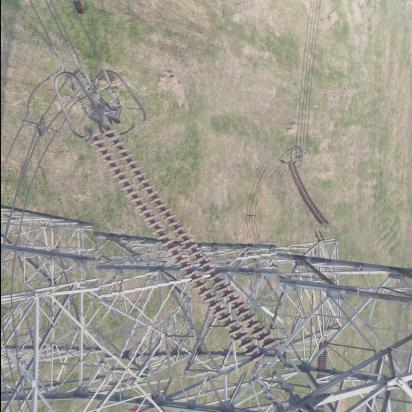insulator: (89, 116, 281, 383), (292, 157, 329, 235)
